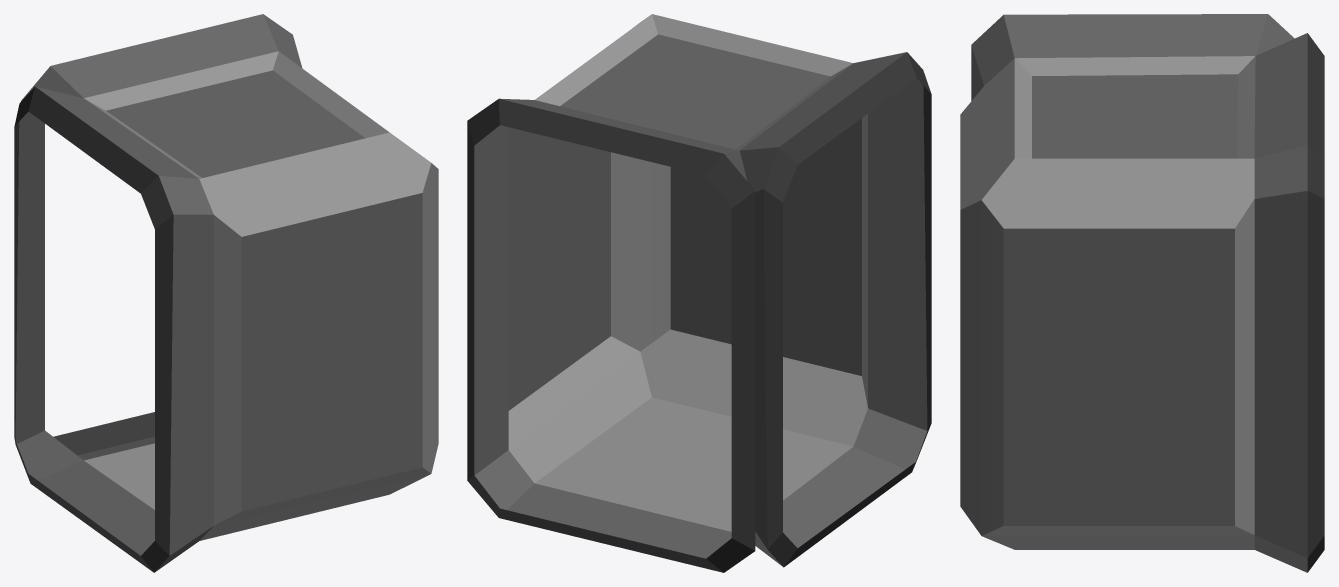
File: Building_Tunnel_Corner.fbx
3 renders of one model, left to right at view 1: azimuth 30°, elevation 25°; view 2: azimuth 150°, elevation 25°; view 3: azimuth 270°, elevation 25°, orthographic. The views are drawn at different scales.
Visible parts, largest first — view 1: Building_Tunnel_Corner; view 2: Building_Tunnel_Corner; view 3: Building_Tunnel_Corner.
Boxes of the visible parts, x1=… form: Building_Tunnel_Corner: x1=14, y1=14, x2=438, y2=572; Building_Tunnel_Corner: x1=467, y1=14, x2=931, y2=572; Building_Tunnel_Corner: x1=960, y1=14, x2=1324, y2=572.
Bounding box in the file's own units: 193 × 249 × 192.
